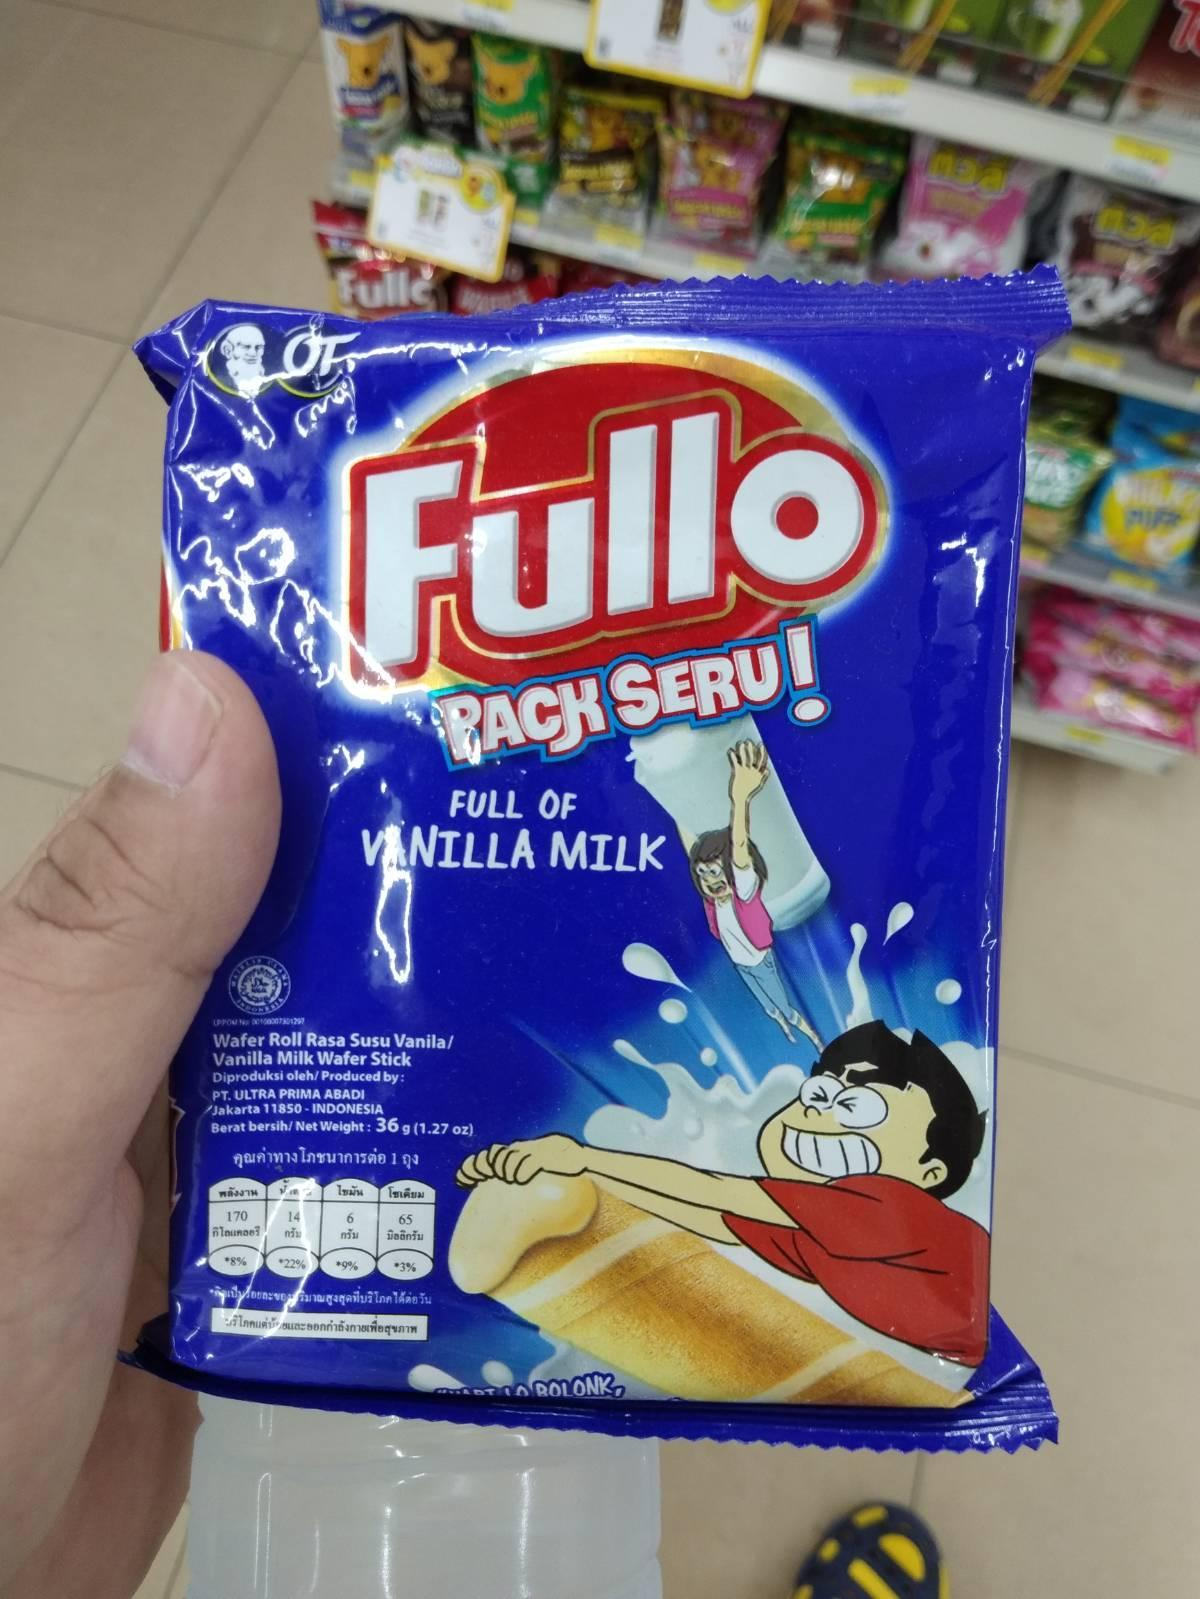plastic: (98, 258, 1099, 1494)
